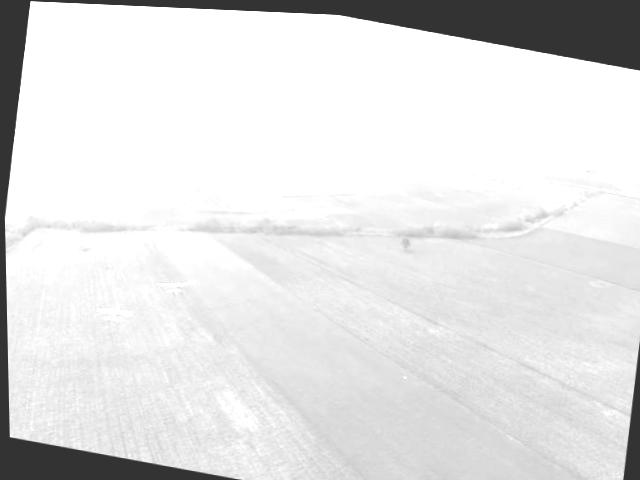hedef: (86, 283, 144, 343), (146, 257, 207, 314)
